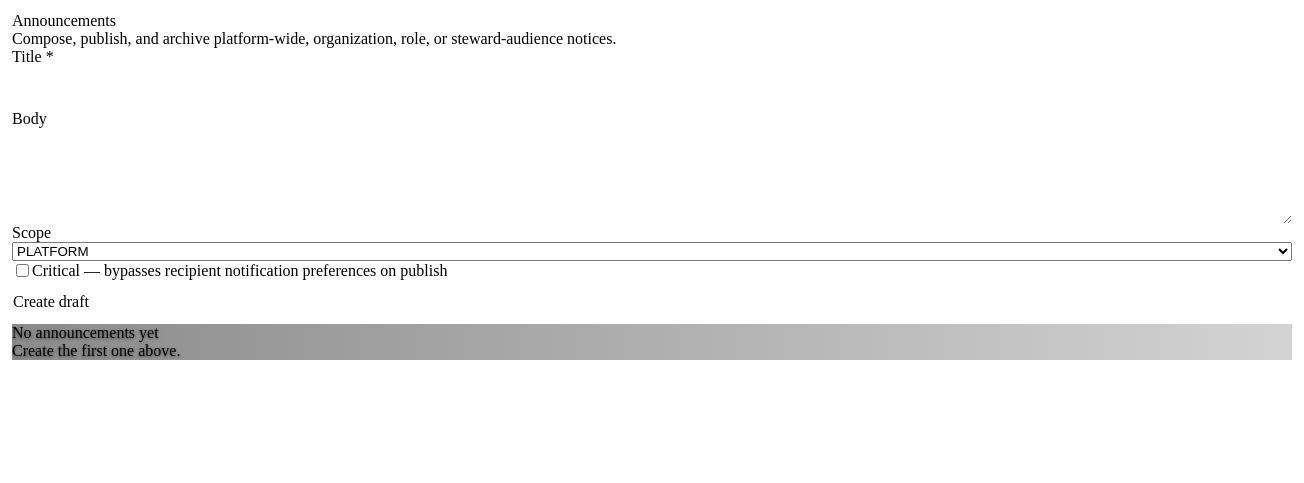
Test: AnnouncementsComposerPanel › creates a new draft announcement
Check: the text "No announcements yet" is shown, box [12,324,159,342]
Type "New notice" into the field labelled "Title *" at (112, 88), box [12,66,212,110]
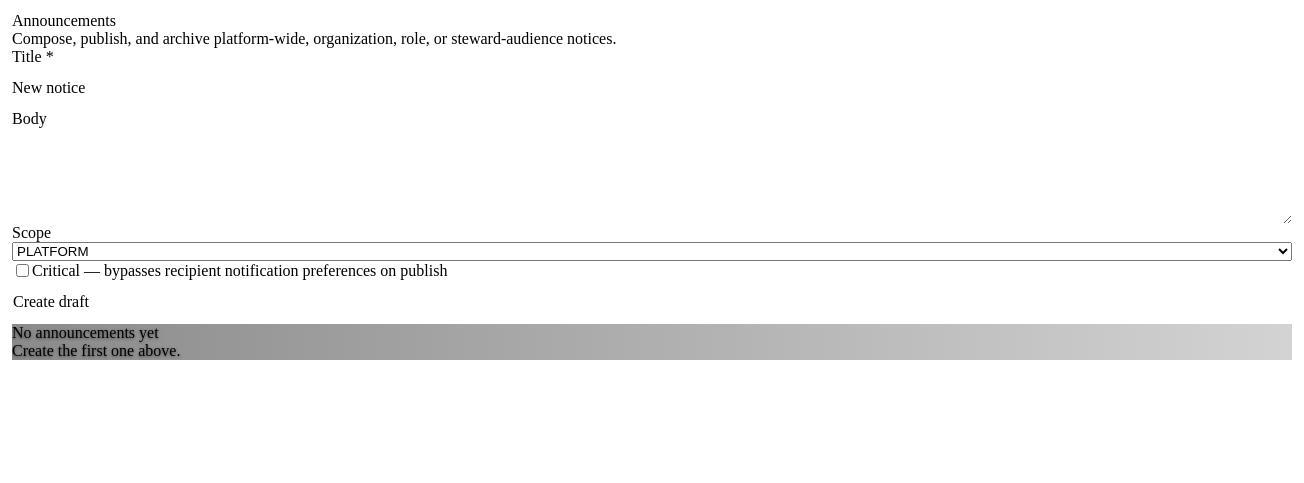
Type "Body text" into the text box labelled "Body" at (652, 176), box [12,128,1292,224]
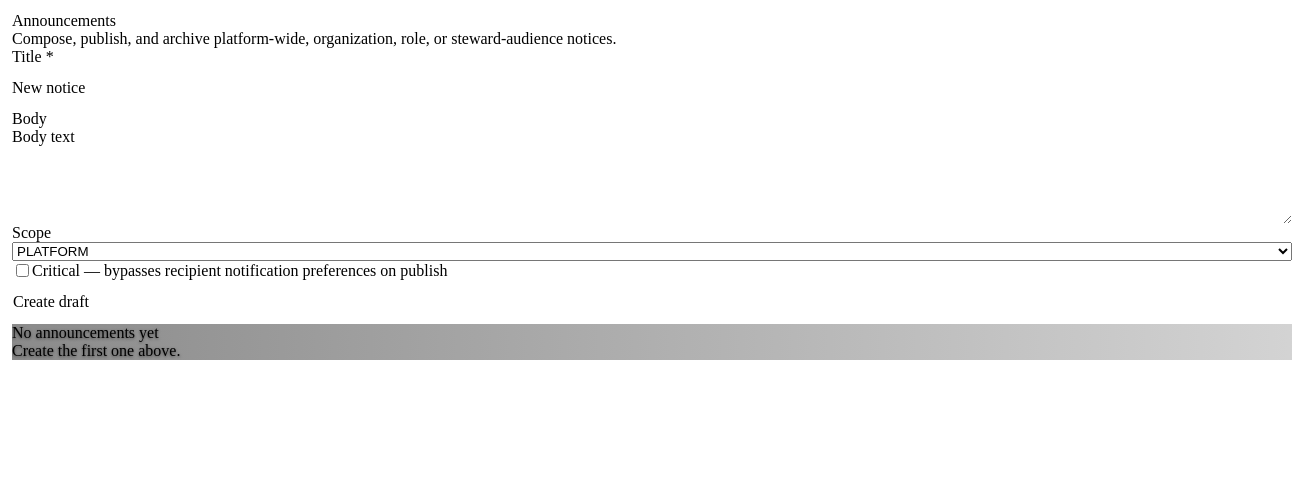
Click the button "Create draft" at (51, 302), box [12,280,90,324]
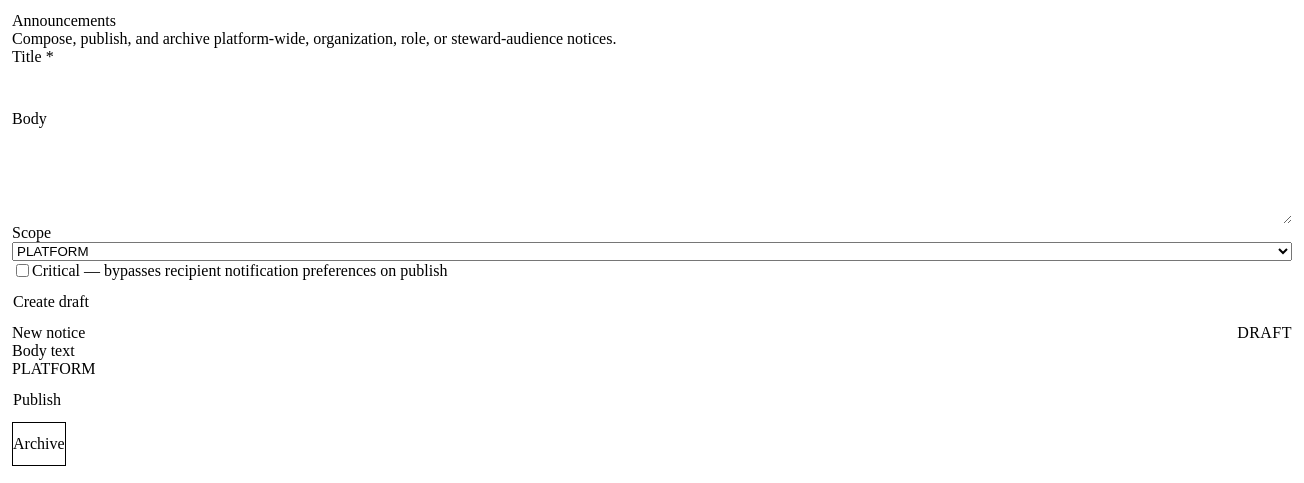
Check: the text "New notice" is shown, box [12,324,85,342]
